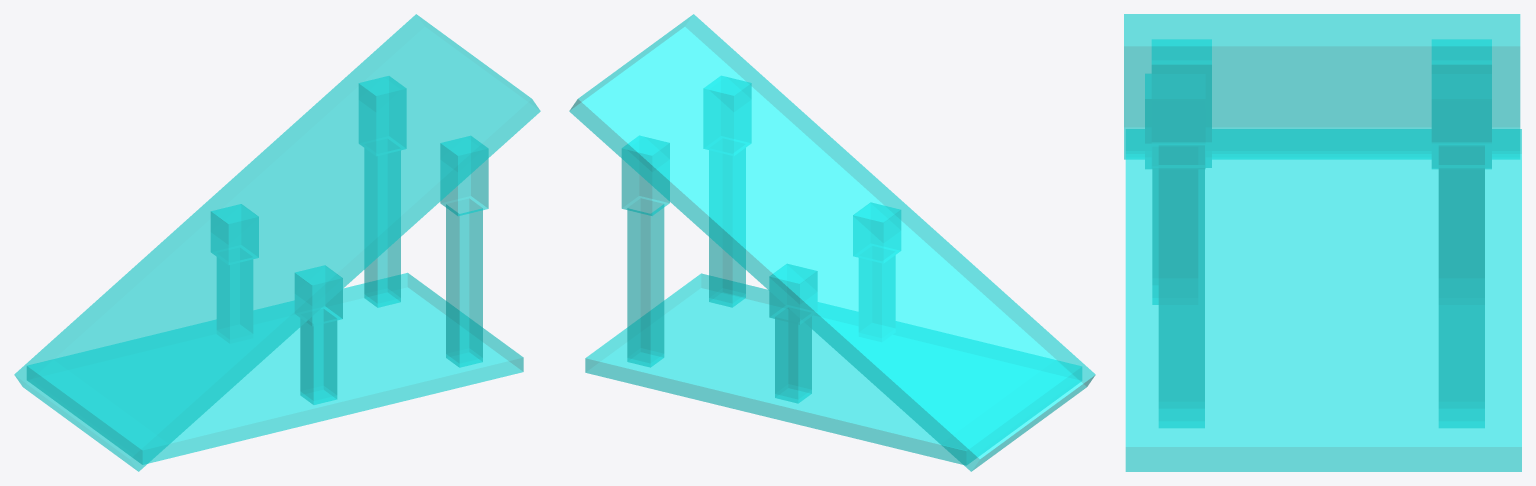
File: SM_Bld_Ramp_01_Collision.fbx
The picture shows the model from 3 angles, left to right: view 1: azimuth 30°, elevation 25°; view 2: azimuth 150°, elevation 25°; view 3: azimuth 270°, elevation 25°; orthographic projection. The views are drawn at different scales.
Visible parts, largest first — view 1: SM_Bld_Ramp_01_Collision; view 2: SM_Bld_Ramp_01_Collision; view 3: SM_Bld_Ramp_01_Collision.
Boxes of the visible parts, x1,y1,x2,y2 form: SM_Bld_Ramp_01_Collision: [14, 14, 540, 471]; SM_Bld_Ramp_01_Collision: [569, 14, 1095, 471]; SM_Bld_Ramp_01_Collision: [1124, 14, 1521, 471].
Bounding box in the file's own units: 486 × 313 × 238.
